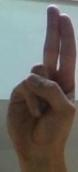U: (1, 1, 78, 166)
